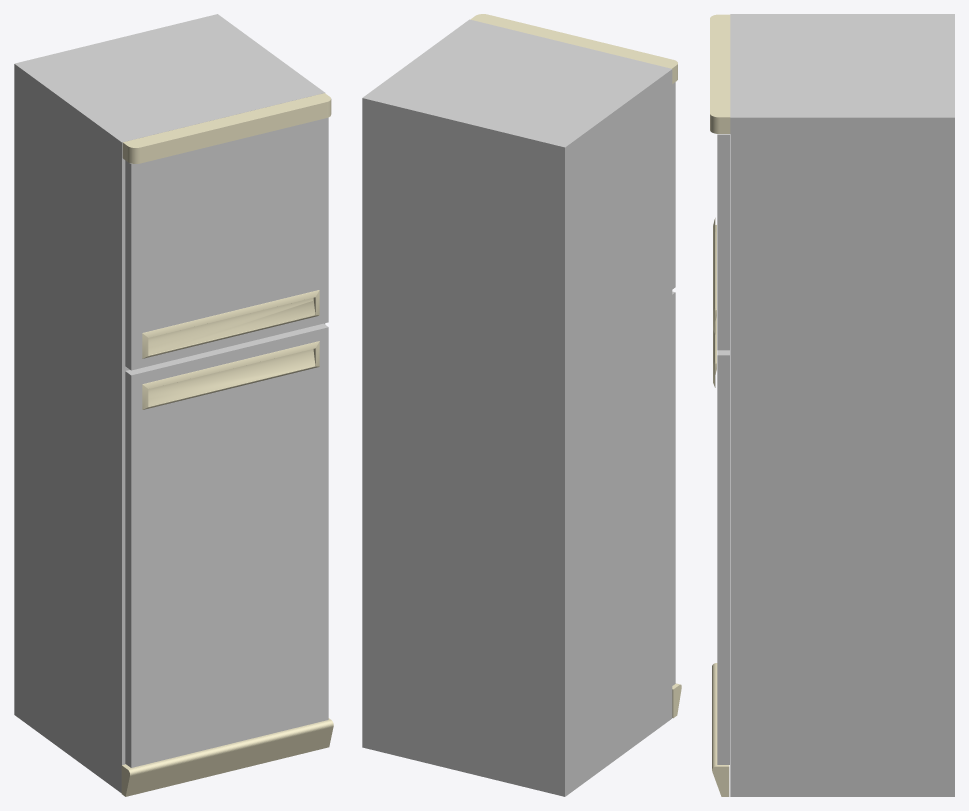
The model's file is Stinol.FBX.
The picture shows the model from 3 angles, left to right: view 1: azimuth 30°, elevation 25°; view 2: azimuth 150°, elevation 25°; view 3: azimuth 270°, elevation 25°; orthographic projection. The views are drawn at different scales.
Parts seen in each view (by area): view 1: Куб, Куб.001, Куб.002, Куб.004, Куб.003, Handle_Freezer, Handle_Refrigerator; view 2: Куб, Куб.003, Куб.001, Куб.002; view 3: Куб, Куб.001, Куб.002, Куб.003, Куб.004.
Part boxes in pixels (left/top/right/bottom): Куб: left=14, top=14, right=325, bottom=792; Куб.001: left=125, top=323, right=328, bottom=767; Куб.002: left=125, top=117, right=328, bottom=370; Куб.004: left=121, top=718, right=333, bottom=796; Куб.003: left=122, top=93, right=331, bottom=163; Handle_Freezer: left=142, top=290, right=319, bottom=358; Handle_Refrigerator: left=142, top=341, right=319, bottom=409; Куб: left=362, top=19, right=672, bottom=796; Куб.003: left=470, top=14, right=677, bottom=83; Куб.001: left=672, top=291, right=675, bottom=685; Куб.002: left=672, top=82, right=675, bottom=289; Куб: left=730, top=14, right=954, bottom=796; Куб.001: left=717, top=350, right=729, bottom=764; Куб.002: left=717, top=134, right=729, bottom=350; Куб.003: left=710, top=14, right=730, bottom=133; Куб.004: left=712, top=663, right=729, bottom=796.
Size of the model in its own units: 60.38 by 184 by 60.16.
